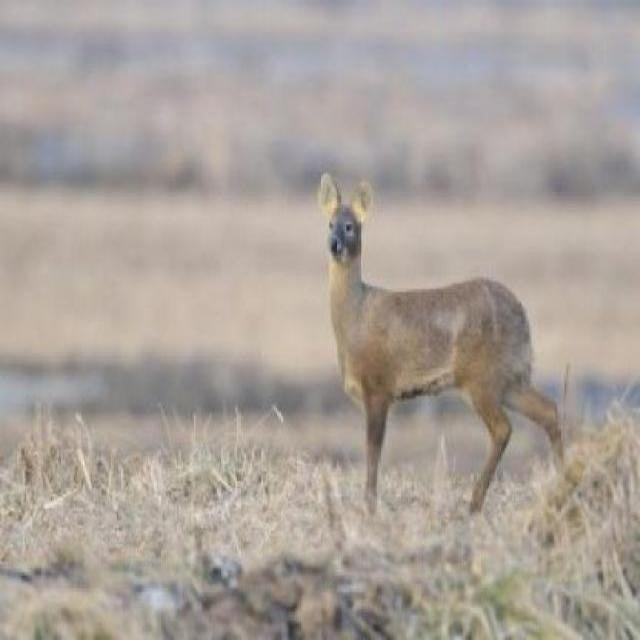deer: (314, 171, 578, 517)
